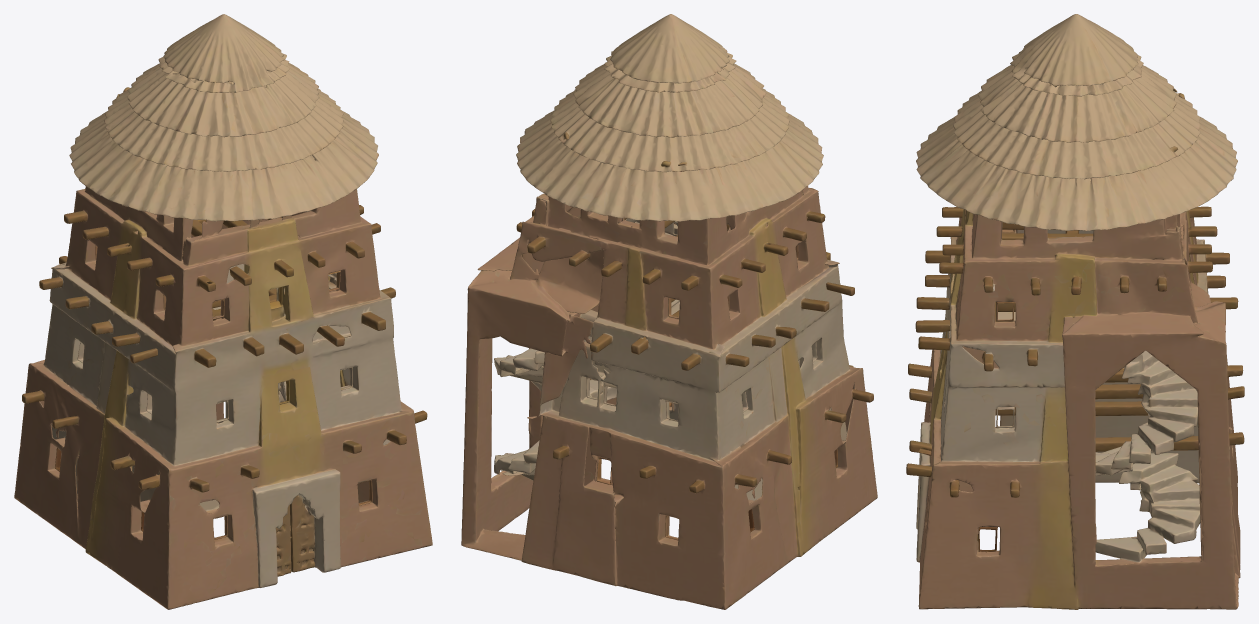
File: trellis-tour-pisee.glb
The picture shows the model from 3 angles, left to right: view 1: azimuth 30°, elevation 25°; view 2: azimuth 150°, elevation 25°; view 3: azimuth 270°, elevation 25°; orthographic projection. The views are drawn at different scales.
Parts seen in each view (by area): view 1: world; view 2: world; view 3: world.
Boxes of the visible parts, x1,y1,x2,y2 form: world: (14, 14, 432, 609); world: (461, 14, 877, 609); world: (906, 14, 1244, 609).
Bounding box in the file's own units: 0.5931 × 1 × 0.5798.
Materials: 1 (1 with a texture image).
